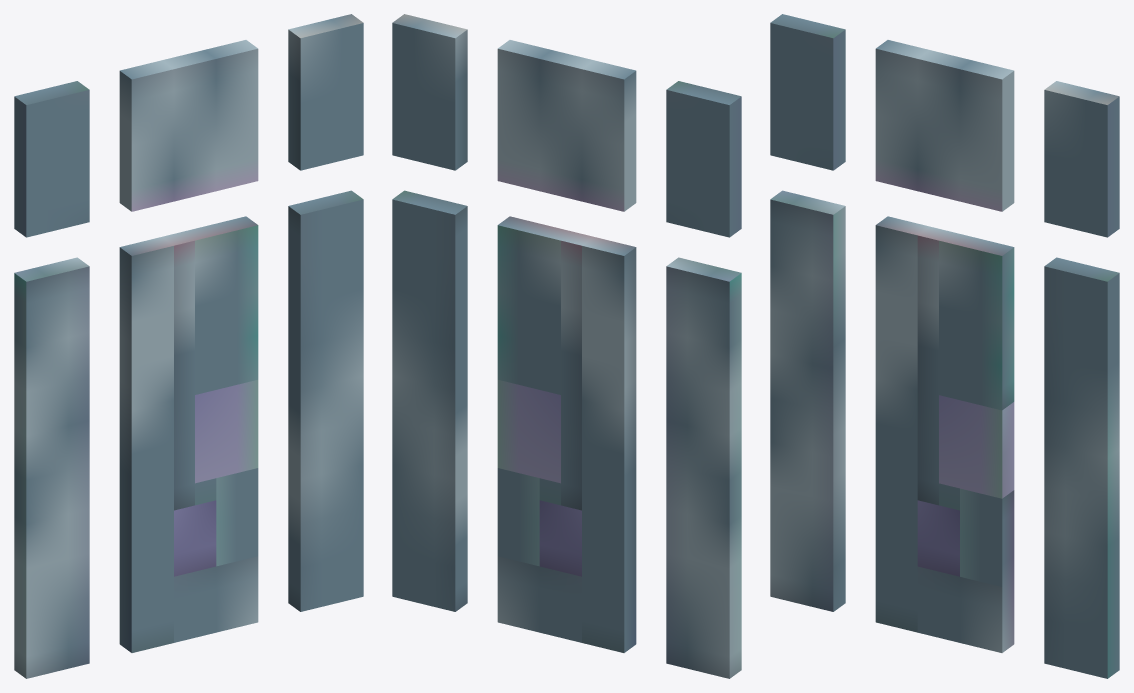
The model's file is Door_Glass_H_00.fbx.
3 renders of one model, left to right at view 1: azimuth 30°, elevation 25°; view 2: azimuth 150°, elevation 25°; view 3: azimuth 330°, elevation 25°, orthographic.
Visible parts, largest first — view 1: Door_Glass_H_00; view 2: Door_Glass_H_00; view 3: Door_Glass_H_00.
Part boxes in pixels (x1,y1,x2,y2): Door_Glass_H_00: (14, 14, 363, 678); Door_Glass_H_00: (392, 14, 741, 678); Door_Glass_H_00: (770, 14, 1119, 678).
Bounding box in the file's own units: 80 × 130 × 5.
